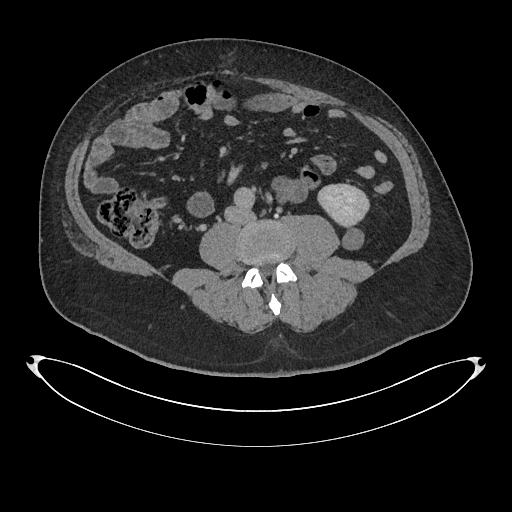Lesion: (338, 225, 367, 252)
